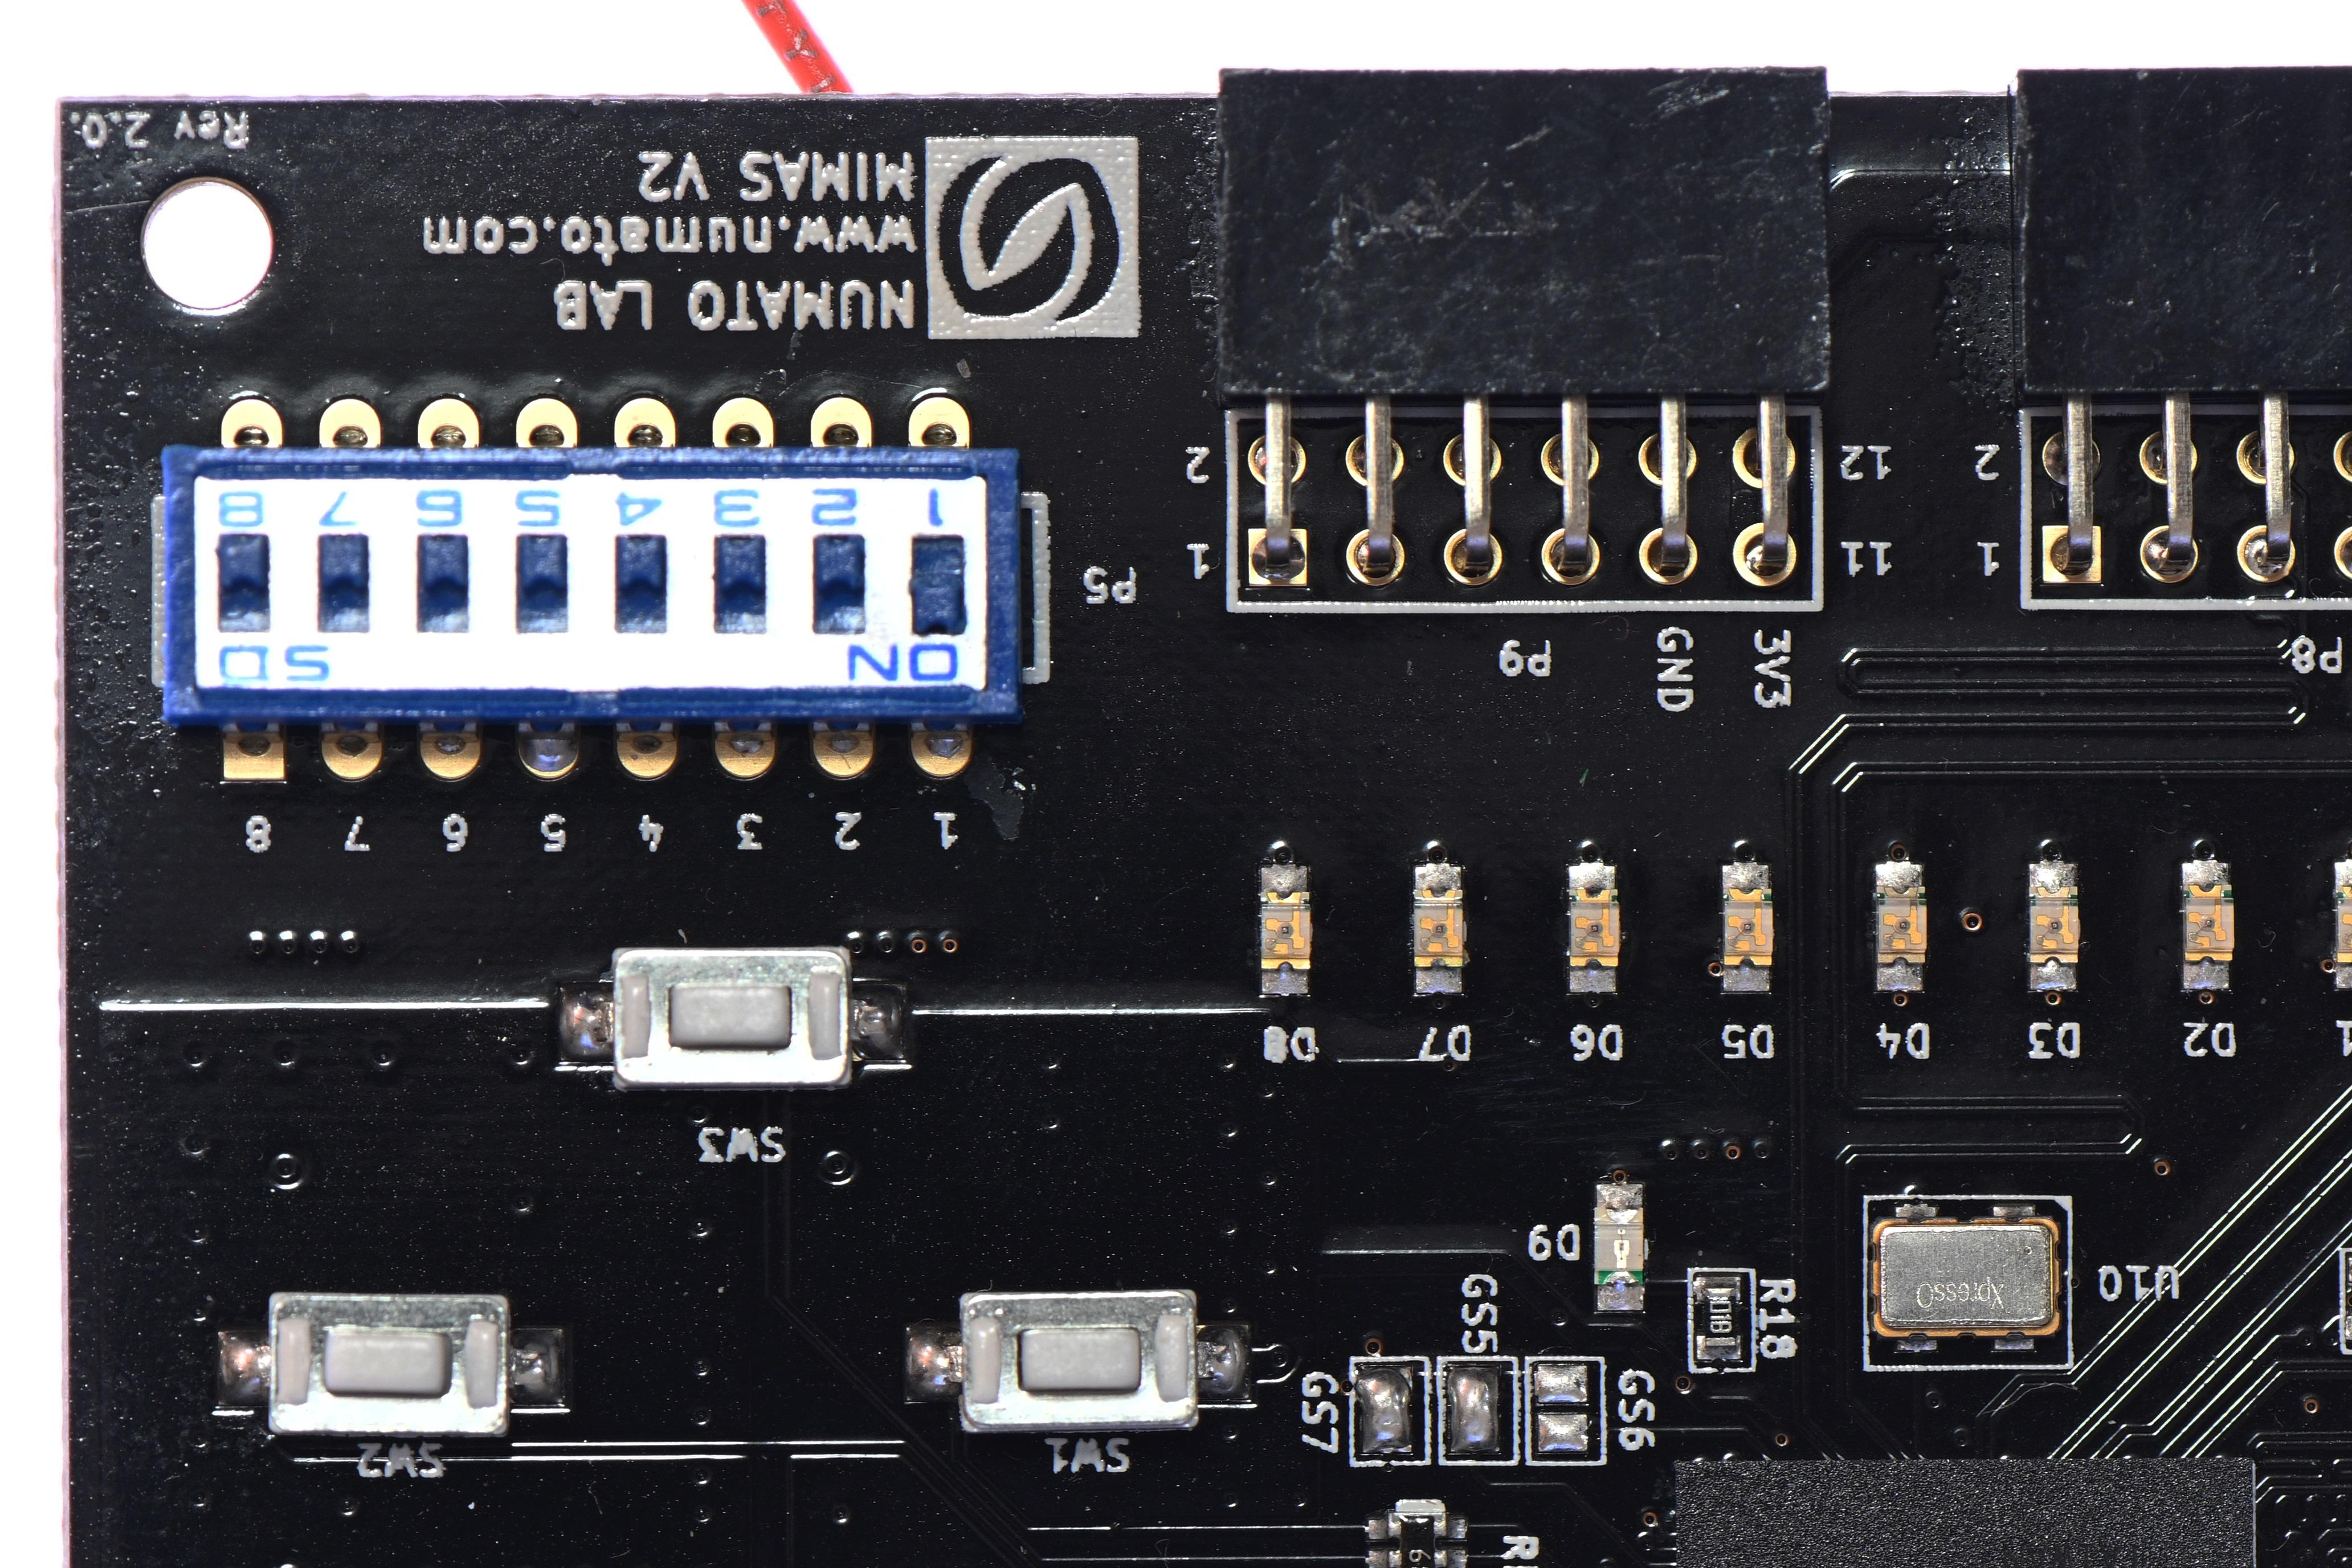ICs: (1673, 1456, 2263, 1568), (1869, 1215, 2061, 1340)
diodes: (1565, 884, 1624, 970), (2181, 880, 2238, 968), (1409, 884, 1467, 971), (1719, 882, 1776, 970), (2025, 878, 2082, 966), (1256, 889, 1314, 975), (1873, 882, 1930, 968), (1591, 1204, 1647, 1290), (2331, 878, 2352, 966)
resistors: (1384, 1509, 1452, 1568), (1703, 1283, 1741, 1351), (2348, 1264, 2352, 1330)
